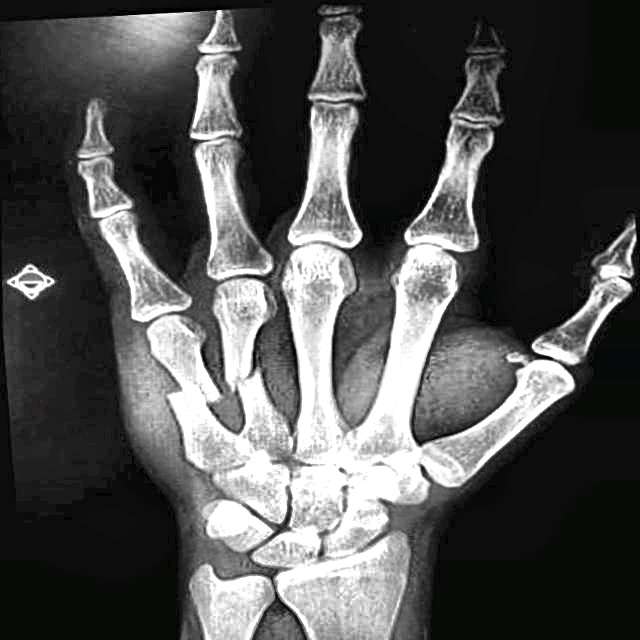Transverse: (139, 362, 223, 427)
Transverse Displaced: (212, 335, 294, 406)
